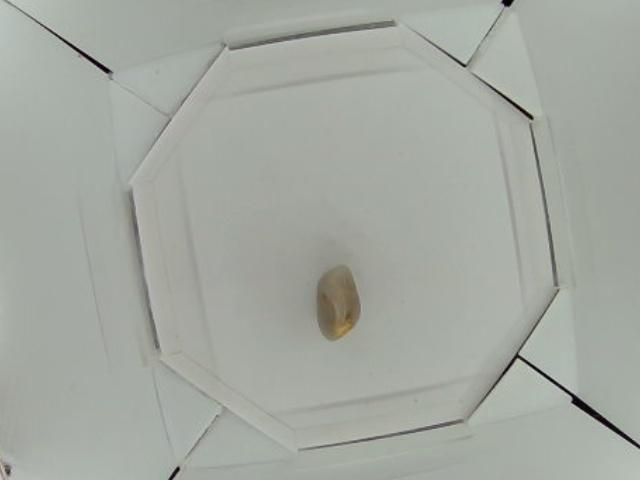Pebble: (317, 265, 360, 346)
